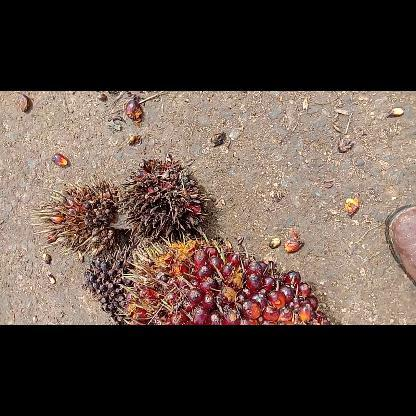TBS abnormal: (116, 152, 210, 240), (23, 177, 121, 256), (83, 244, 131, 324)
TBS masak: (119, 234, 338, 324)
